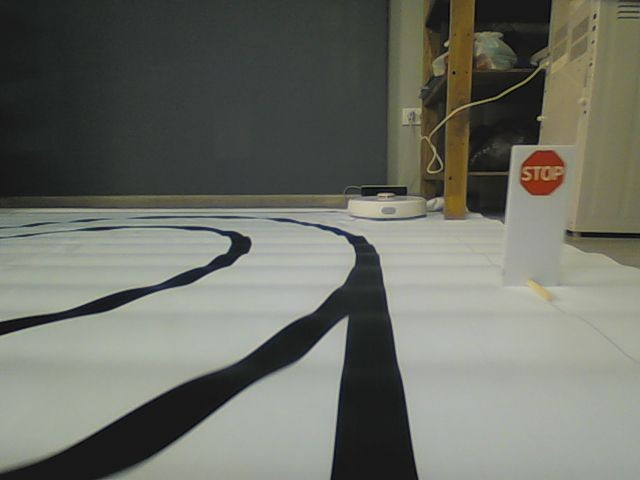Stop: (518, 148, 566, 194)
